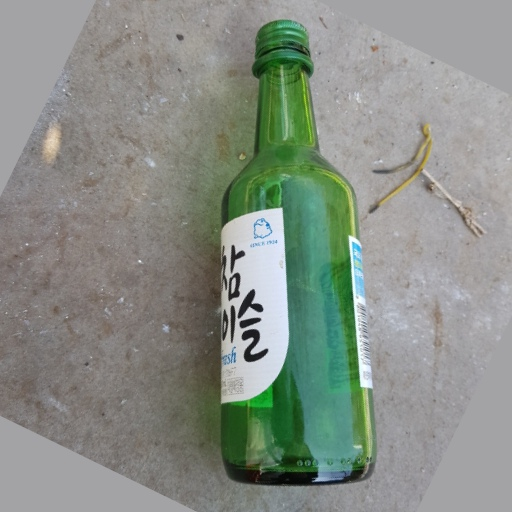Glass_0: (212, 19, 377, 483)
